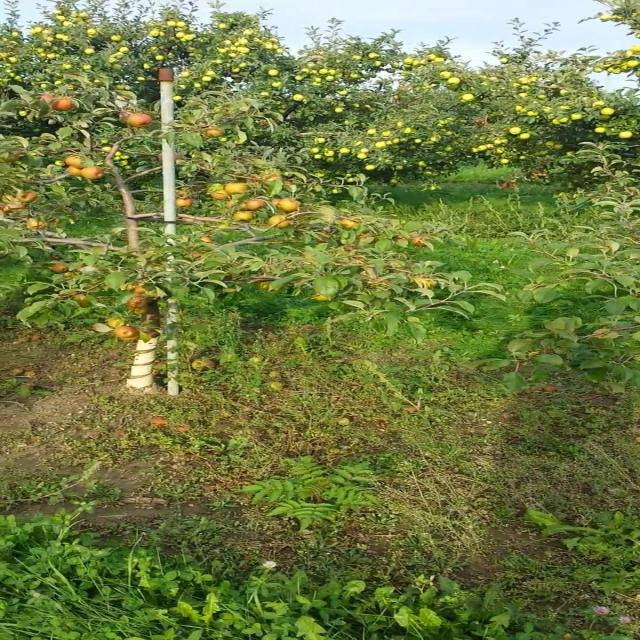apple: (127, 116, 153, 128), (276, 200, 299, 212), (227, 184, 249, 196), (84, 168, 105, 180), (269, 216, 290, 228), (234, 212, 256, 223), (248, 200, 267, 212), (56, 100, 73, 112), (28, 220, 48, 230), (77, 296, 92, 308), (412, 280, 434, 288), (127, 300, 149, 308), (6, 204, 28, 212), (312, 292, 331, 301), (20, 192, 37, 202), (262, 176, 283, 184), (70, 156, 85, 167), (120, 112, 135, 123), (412, 236, 427, 247), (106, 320, 126, 328), (120, 328, 137, 336), (205, 128, 220, 137), (212, 192, 228, 200), (340, 220, 356, 228), (177, 200, 192, 208), (6, 204, 21, 212), (134, 308, 151, 315), (6, 312, 20, 320), (362, 236, 377, 243), (56, 264, 68, 272), (134, 288, 146, 296), (191, 252, 204, 259), (127, 284, 140, 291), (70, 168, 80, 176), (42, 96, 55, 101), (56, 220, 64, 224)
